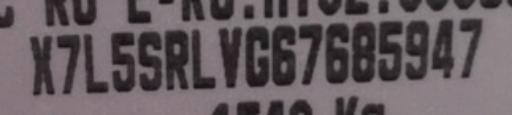letter: (22, 32, 60, 95), (264, 22, 300, 87), (187, 25, 221, 90), (454, 14, 486, 81), (374, 17, 406, 84), (162, 27, 194, 94), (106, 27, 138, 94), (348, 18, 378, 87), (80, 32, 112, 95), (401, 15, 431, 82), (428, 15, 458, 82), (217, 23, 247, 90), (134, 28, 164, 95), (53, 30, 83, 97), (321, 20, 351, 85), (242, 22, 272, 87), (298, 20, 326, 87)
